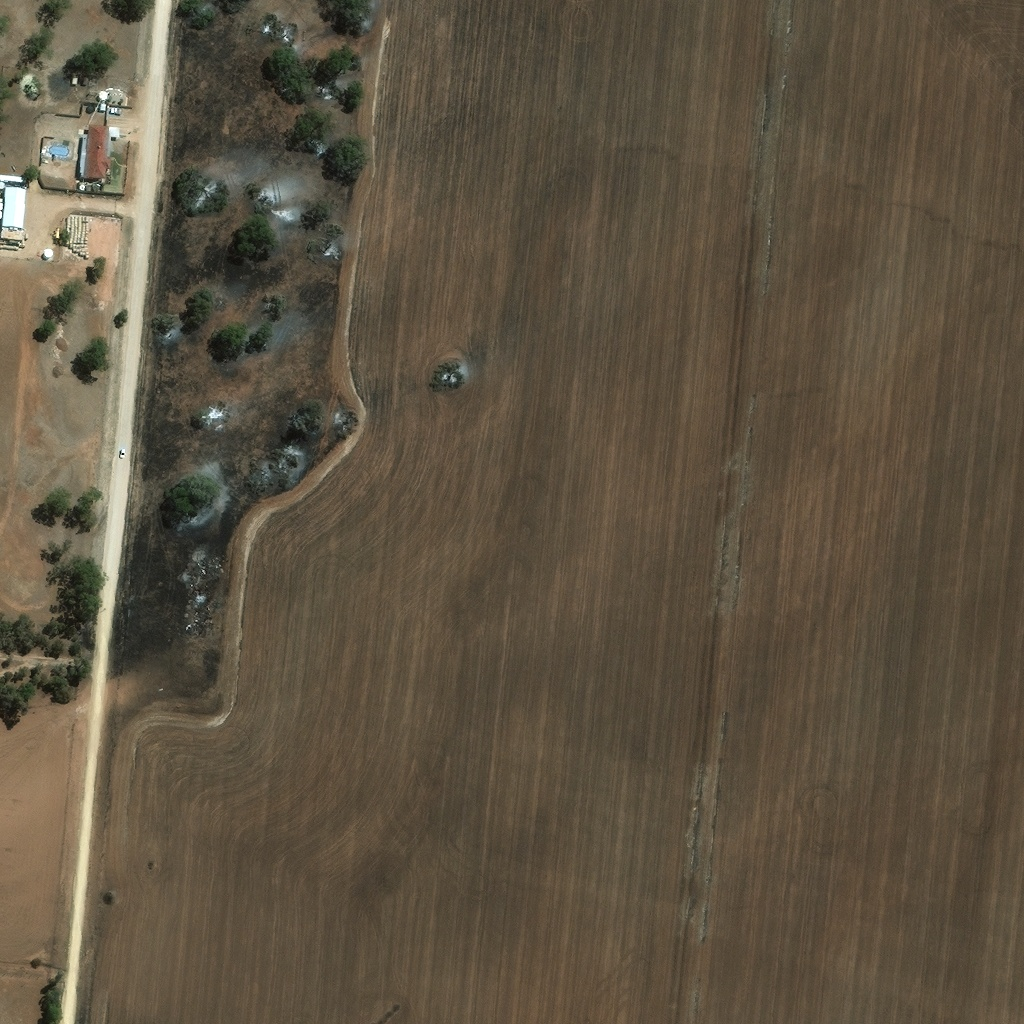0 no-damage: (79, 120, 113, 187), (1, 184, 28, 228), (72, 70, 80, 81), (99, 87, 108, 96), (101, 100, 108, 106)
4 un-classified: (33, 242, 45, 250)
